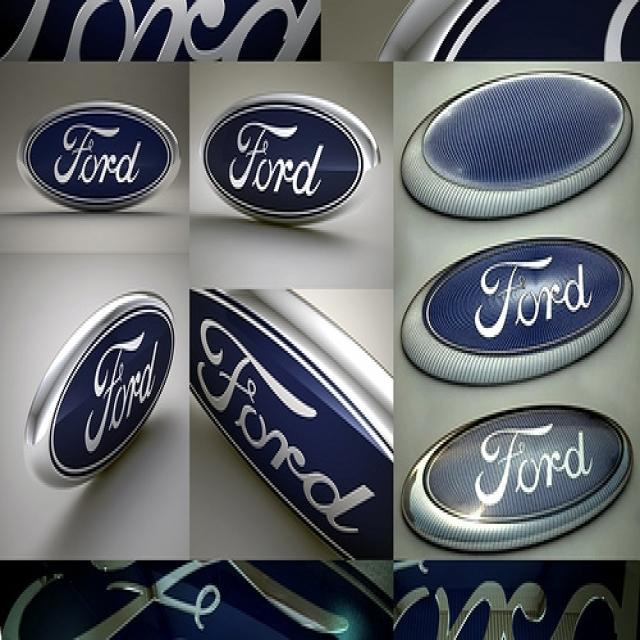ford: (187, 311, 381, 552), (400, 231, 636, 393), (400, 400, 636, 557), (24, 290, 178, 493), (200, 88, 383, 227), (21, 99, 183, 213)
